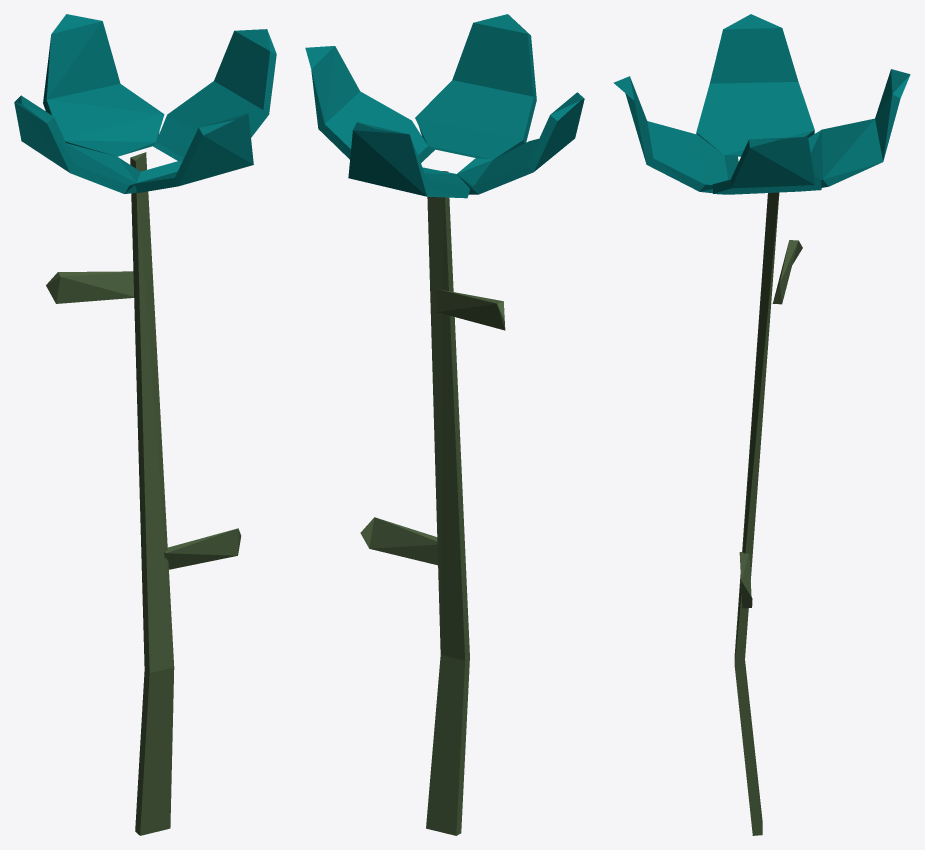
The model's file is plant_flower_2.glb.
3 renders of one model, left to right at view 1: azimuth 30°, elevation 25°; view 2: azimuth 150°, elevation 25°; view 3: azimuth 270°, elevation 25°, orthographic.
Parts seen in each view (by area): view 1: plant_flower_2; view 2: plant_flower_2; view 3: plant_flower_2.
Boxes of the visible parts, bbox=[...] form: plant_flower_2: bbox=[14, 14, 276, 835]; plant_flower_2: bbox=[305, 14, 584, 835]; plant_flower_2: bbox=[613, 14, 910, 835].
Bounding box in the file's own units: 0.2843 × 0.7939 × 0.2852.
